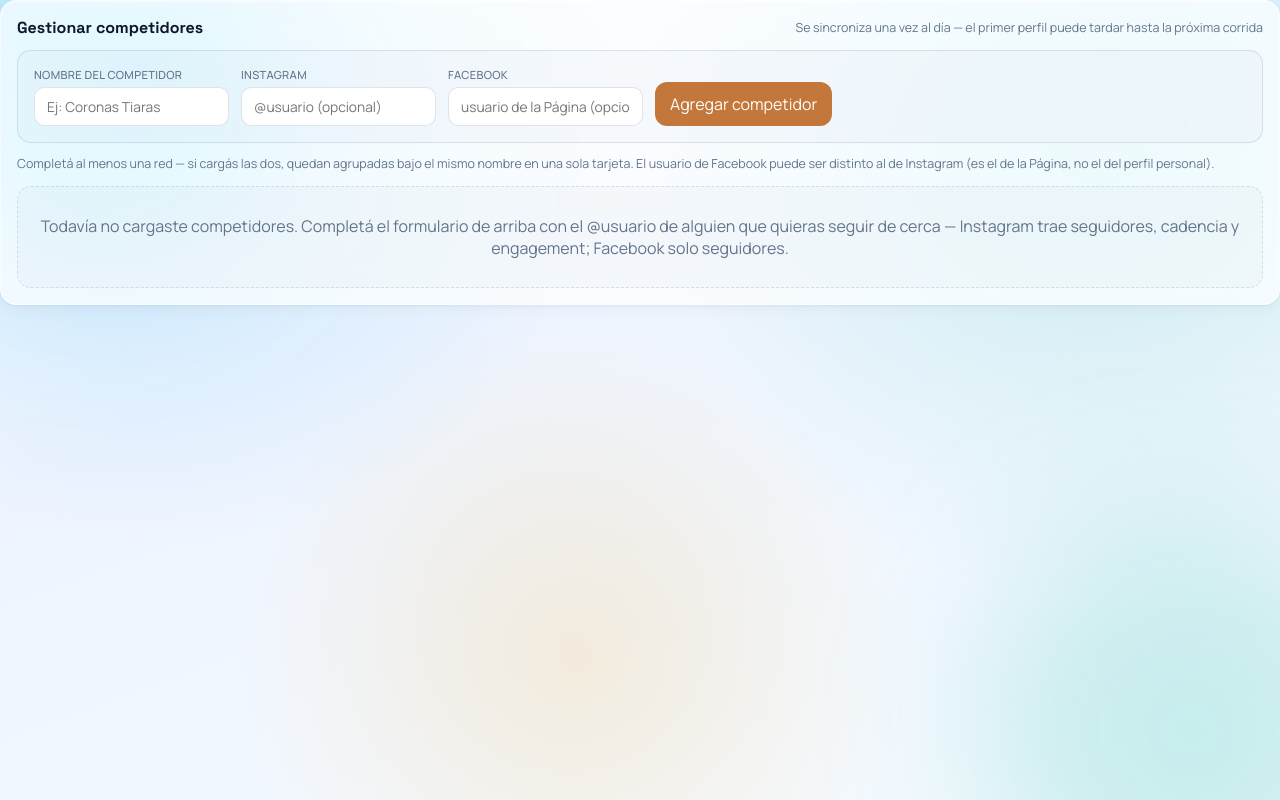
Scenario: CompetidoresEditor › error al guardar: muestra mensaje claro y no pierde lo tipeado
The image size is (1280, 800).
Expected: the text "Todavía no cargaste" is shown, [41,215,1239,259]
Step 1. Type "Repetido" into the field labelled "Nombre del competidor" → (132, 106), box [34,87,229,126]
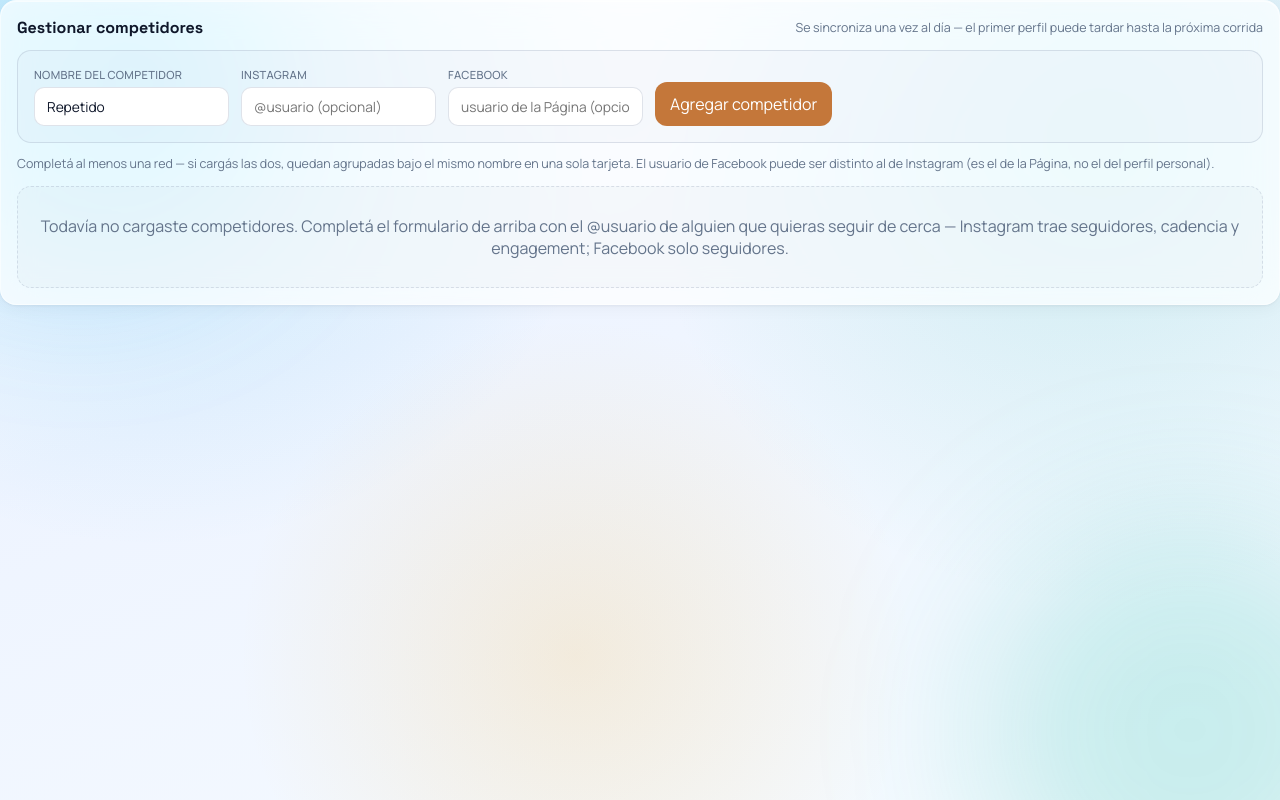
Step 2. Type "repetido" into the field labelled "Instagram" → (338, 106), box [241,87,436,126]
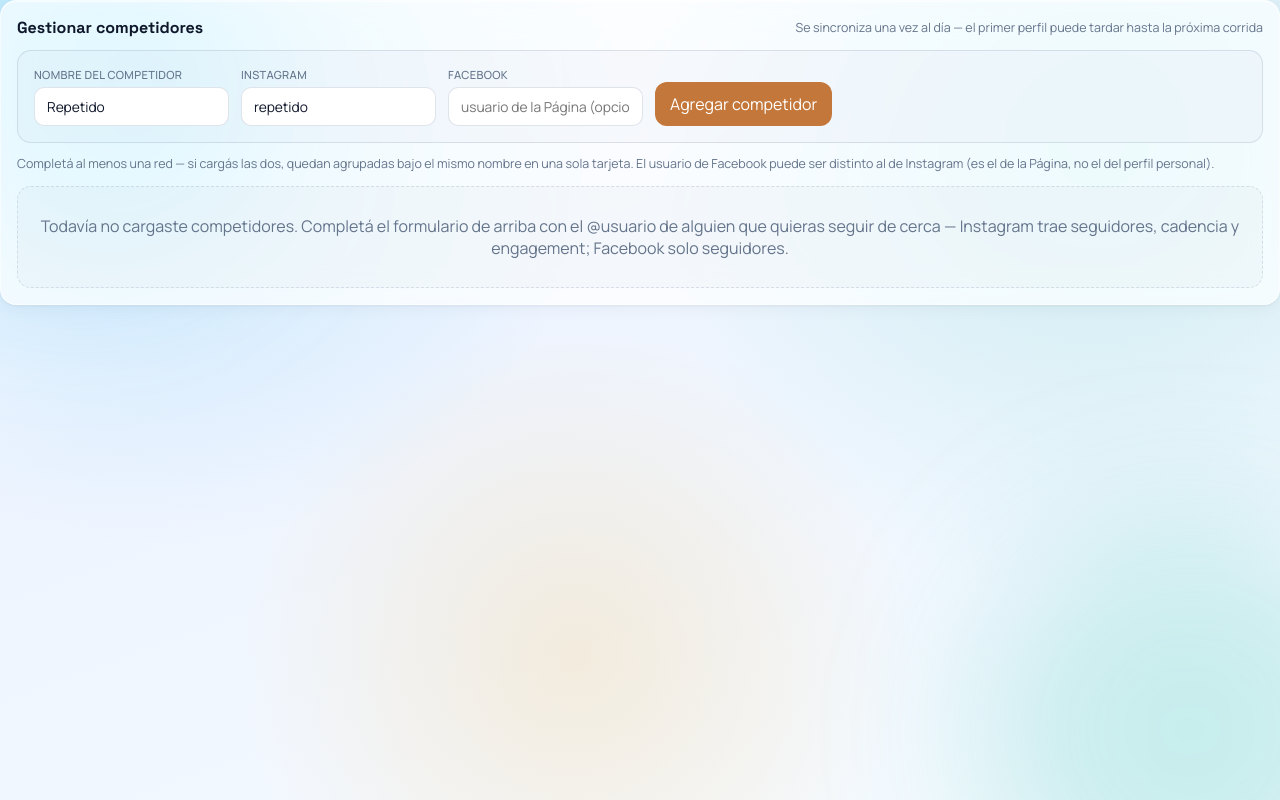
Step 3. Click the button "Agregar competidor" → (744, 104), box [655,82,832,126]
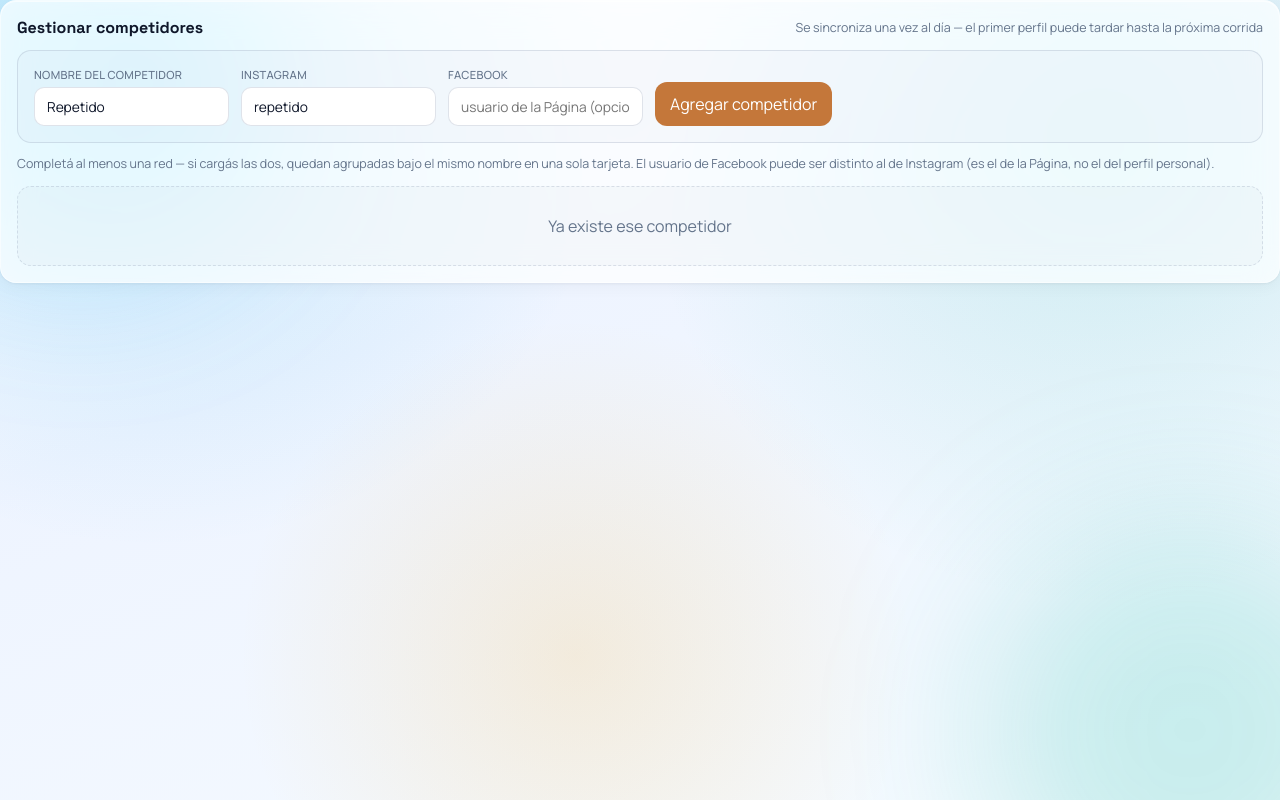
Expected: the message reads "Ya existe ese competidor", [548,215,732,237]
